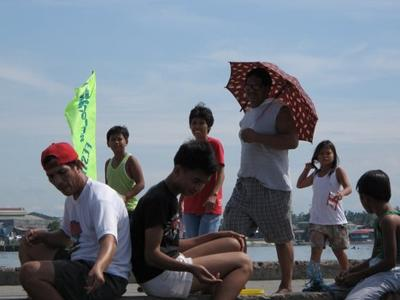person: (216, 68, 302, 293)
